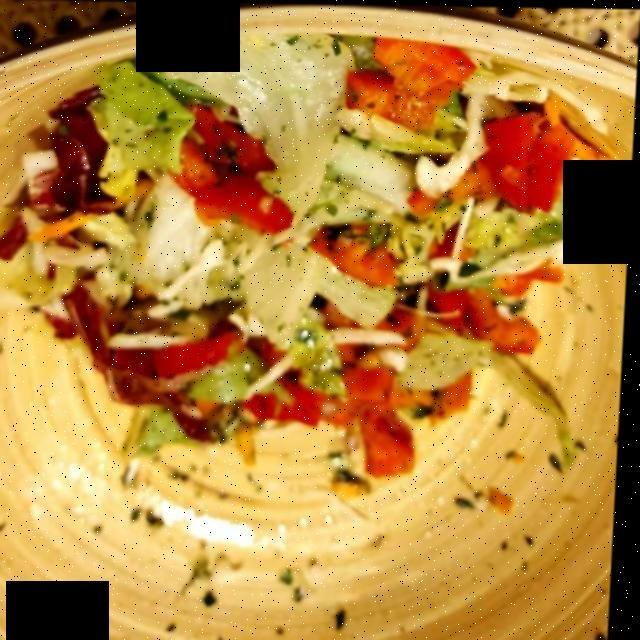bell-pepper: (136, 32, 609, 472)
carrot: (46, 98, 617, 251)
salad: (6, 33, 608, 462)
